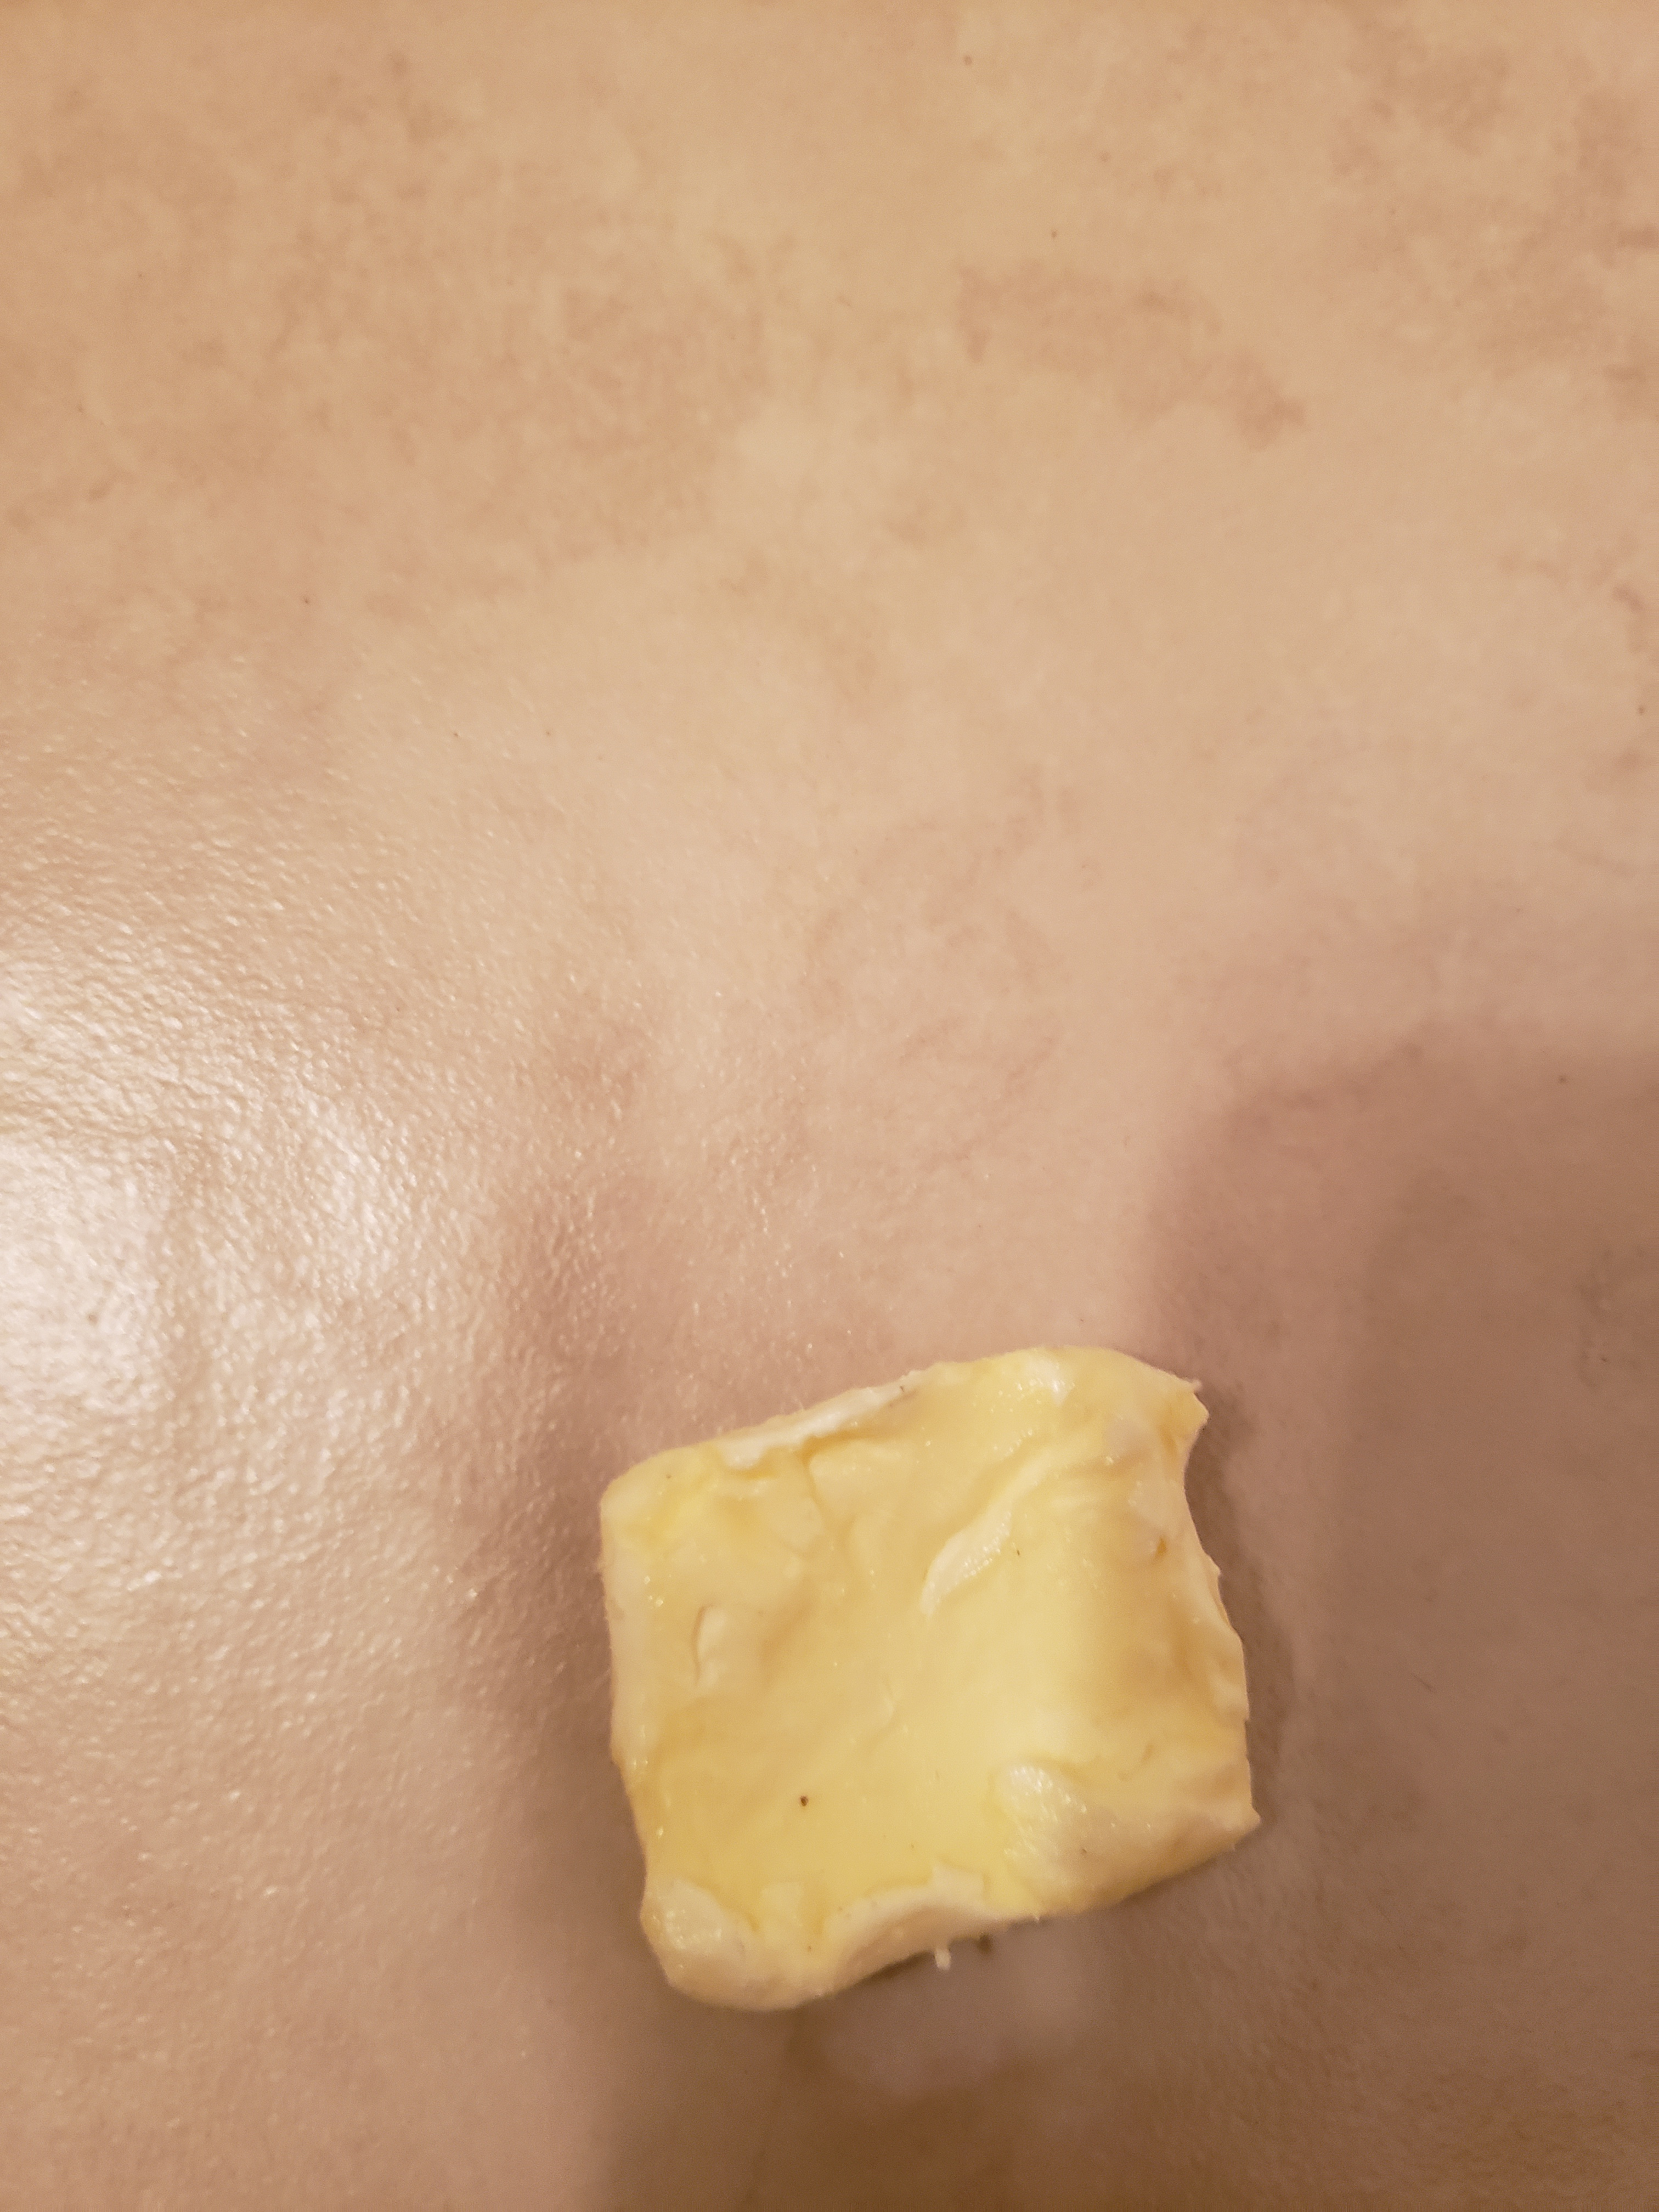Butter: (603, 1352, 1248, 2010)
